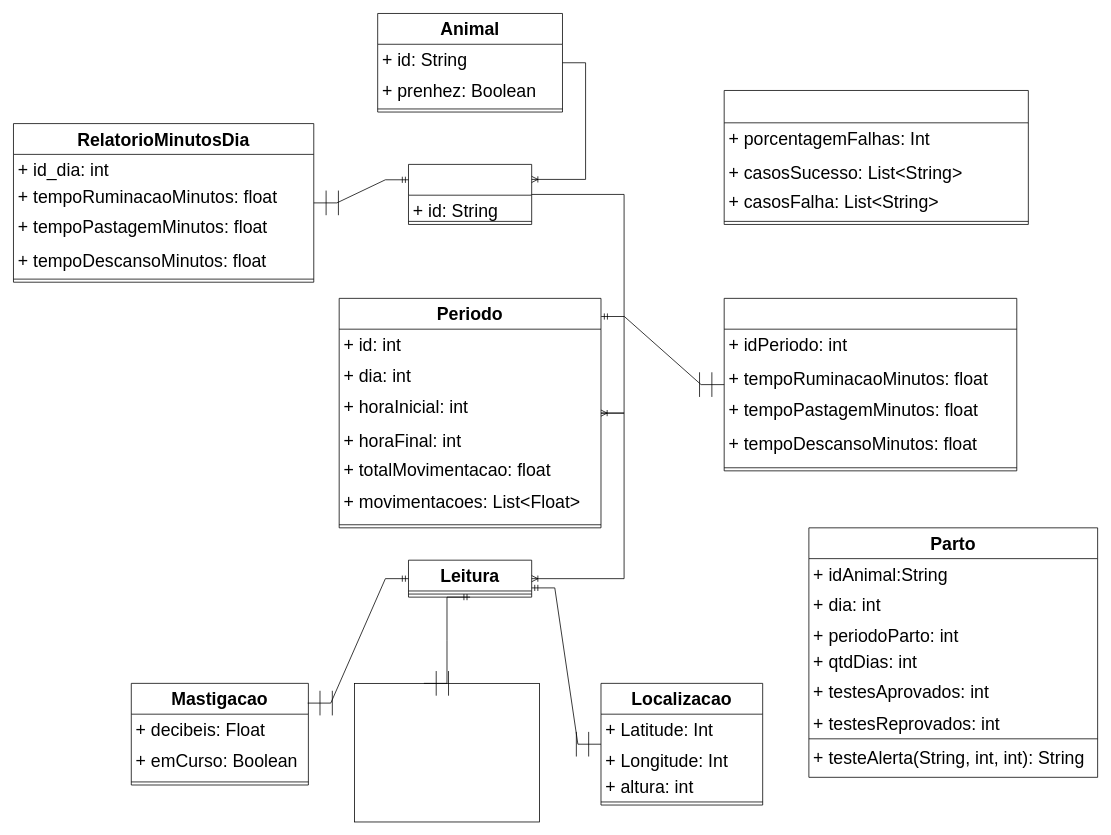
The diagram is 1111 pixels wide and 835 high, and some of its shapes have lost their labels. Each missing label, with the box of its shape:
<<Enumeration>> TipoLeitura DESCANSO, RUMINAÇÃO, PASTAGEM: (354, 683, 539, 822)
Dia: (408, 164, 532, 224)
RelatorioAlertaGeral: (723, 90, 1028, 224)
RelatorioPeriodo: (723, 298, 1017, 471)
